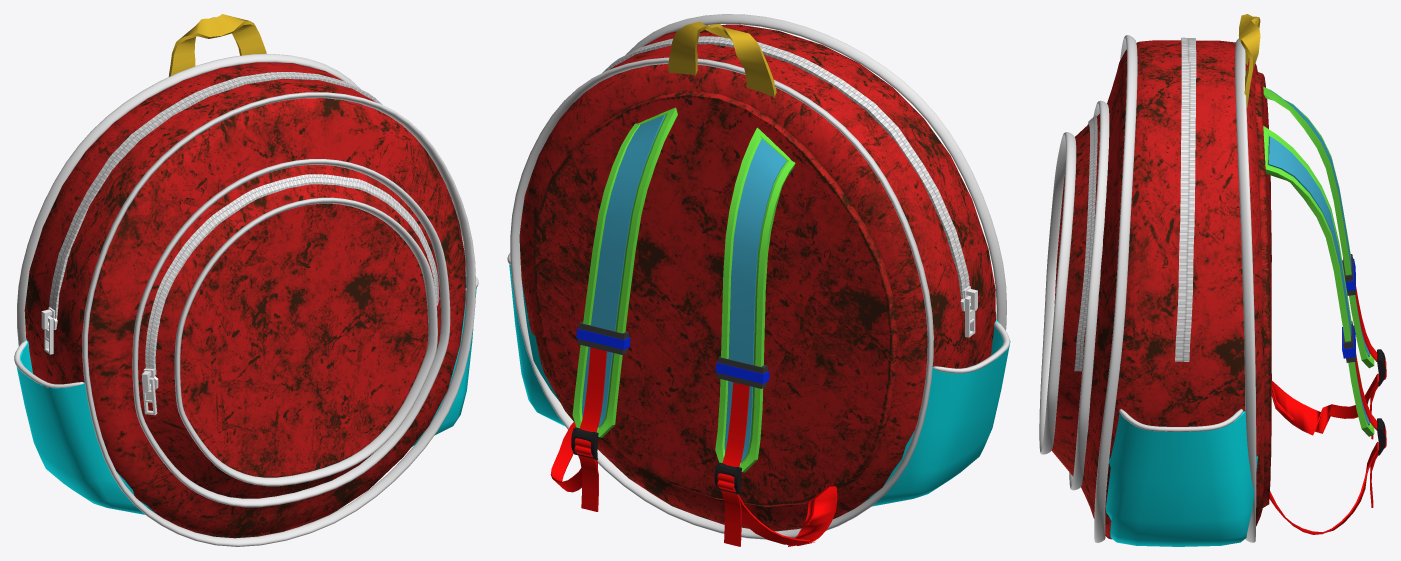
Rendered from Ranac 5.FBX.
3 views of the same model, side by side, from view 1: azimuth 30°, elevation 25°; view 2: azimuth 150°, elevation 25°; view 3: azimuth 270°, elevation 25° (orthographic). The views are drawn at different scales.
Visible parts, largest first — view 1: Box035, Shape031, Object035, Object024; view 2: Box035, Object035, Shape031, Object024; view 3: Box035, Object035, Shape031, Object024.
Part boxes in pixels (box(x1,y1,x2,y2)): Box035: box(24, 62, 465, 538); Shape031: box(14, 54, 478, 546); Object035: box(16, 14, 476, 514); Object024: box(41, 72, 439, 415); Box035: box(519, 24, 995, 531); Object035: box(509, 21, 1010, 546); Shape031: box(507, 14, 1009, 539); Object024: box(602, 36, 977, 337); Box035: box(1051, 40, 1271, 539); Object035: box(1106, 14, 1386, 546); Shape031: box(1039, 35, 1256, 542); Object024: box(1074, 37, 1196, 371).
Size of the model in its own units: 161 by 165 by 104.
